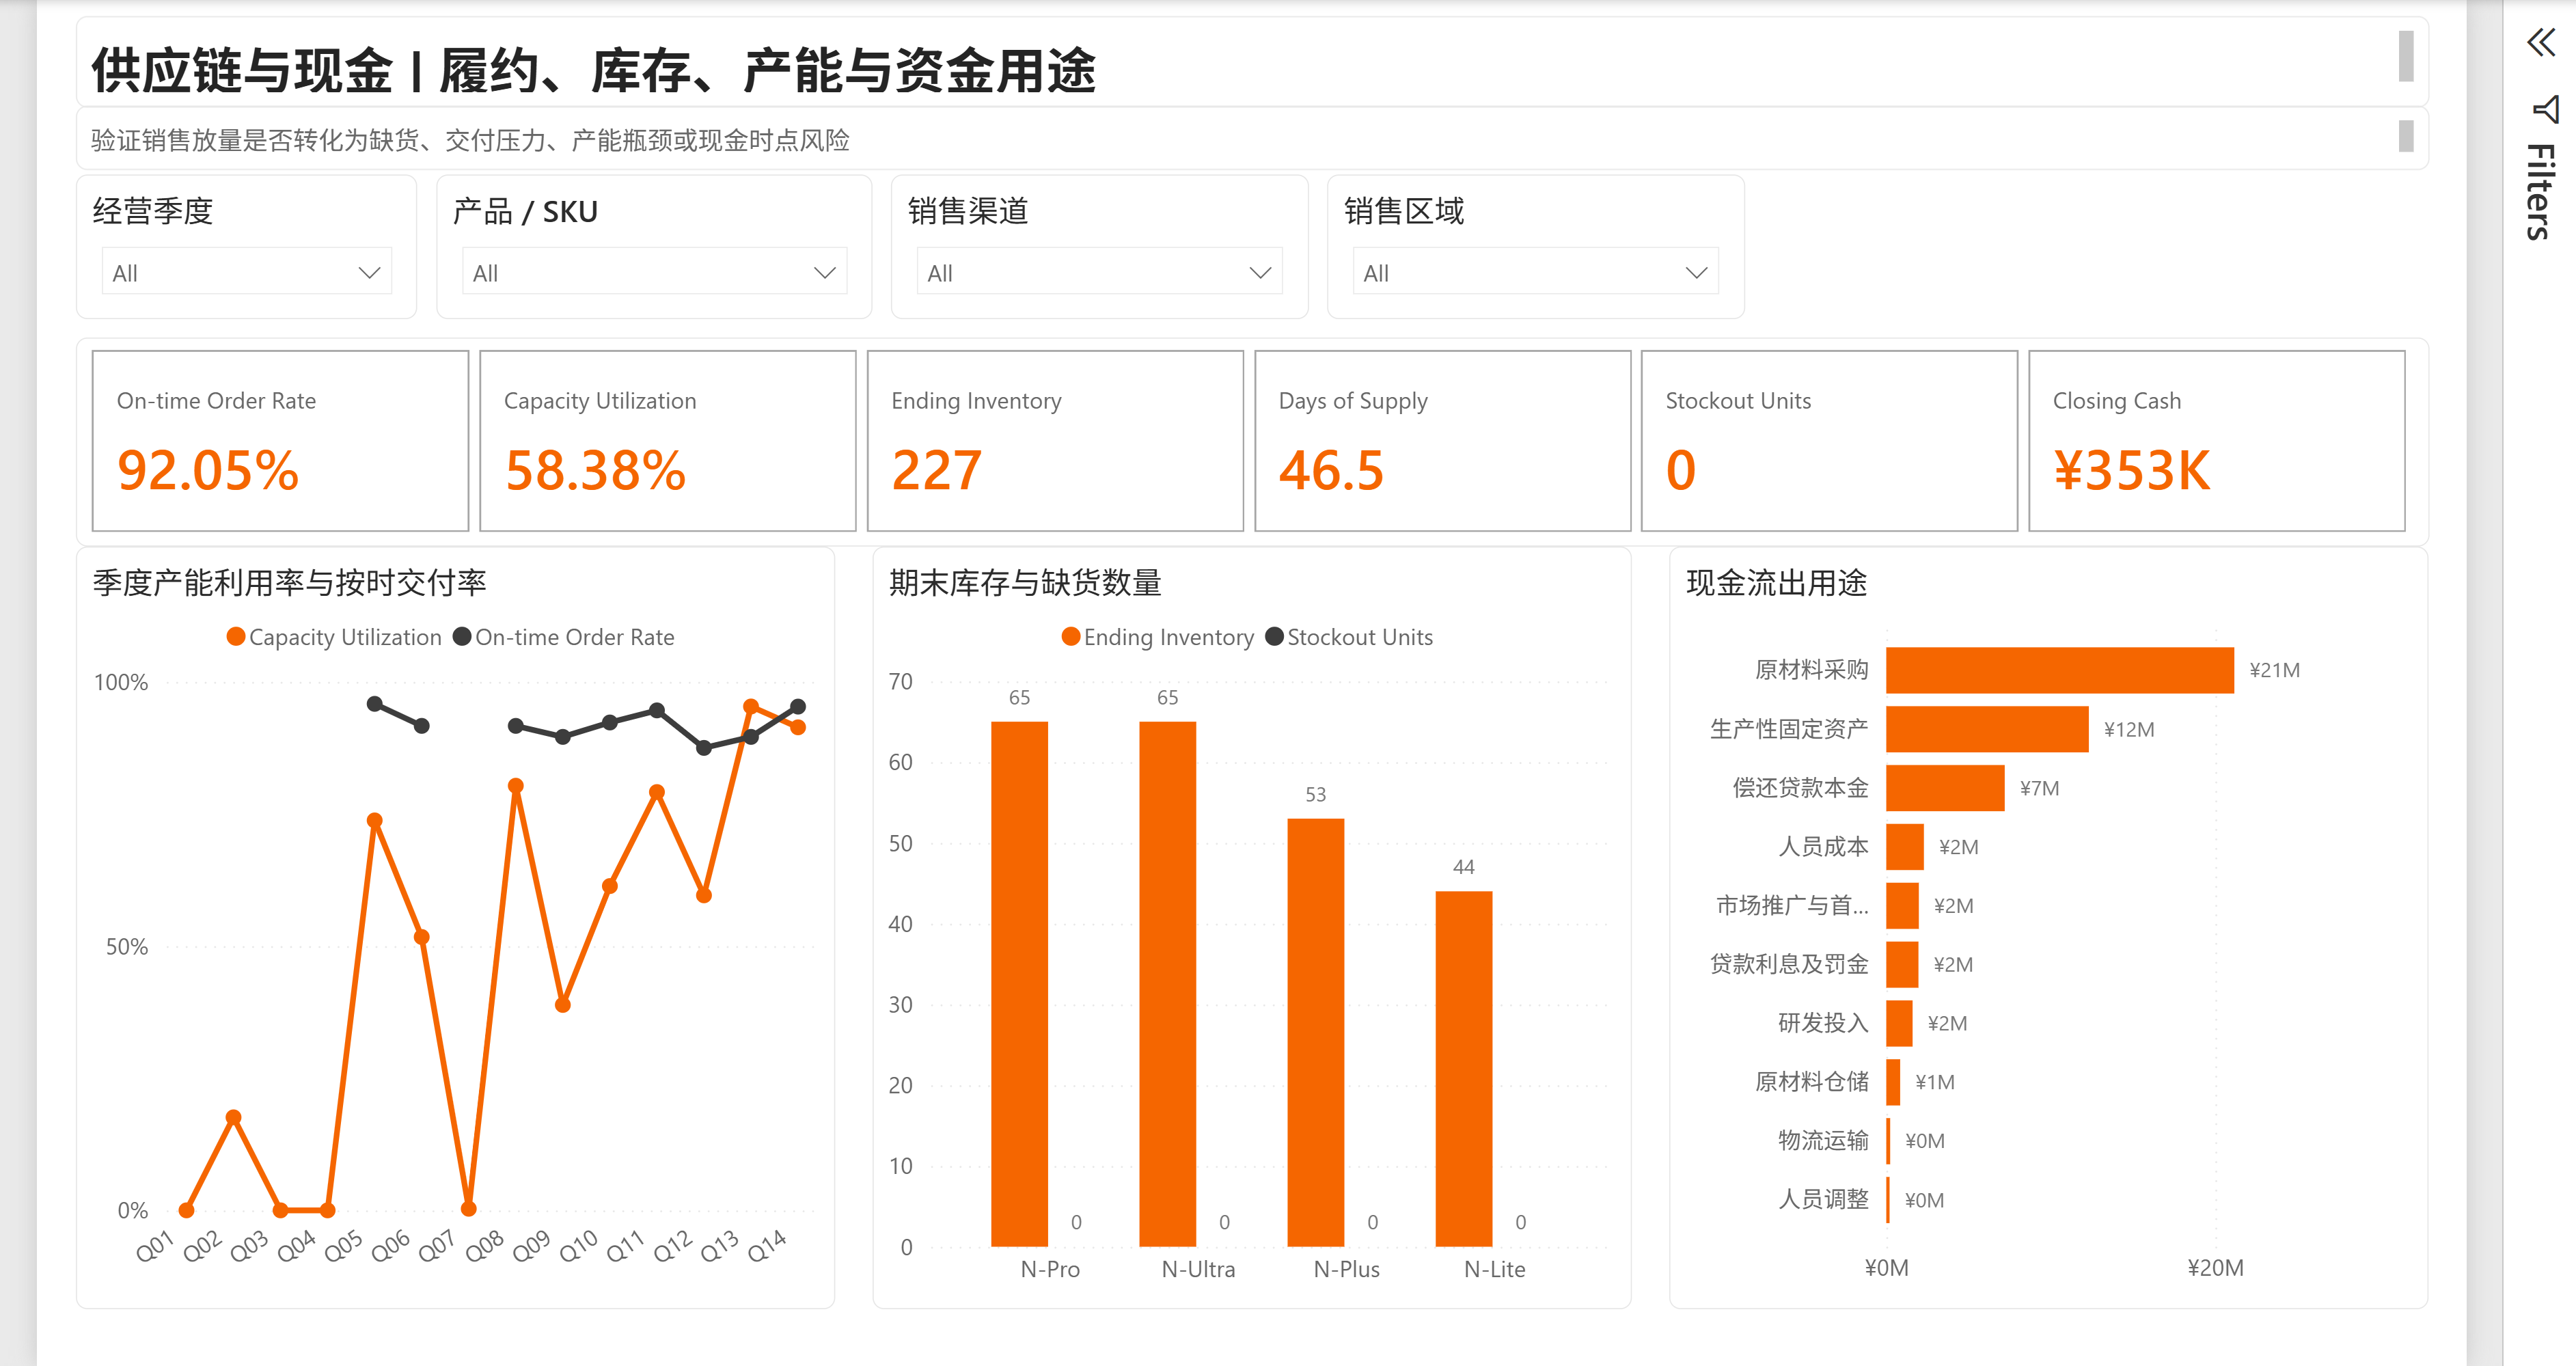

The dashboard page shown, as its layout file describes it:
{"tool":"powerbi","page":{"name":"3 供应链与现金","canvas":[1280,720],"ordinal":2},"visuals":[{"type":"textbox","box":[20,8,1240,48],"z":1000},{"type":"textbox","box":[20,56,1240,34],"z":2000},{"type":"slicer","title":"经营季度","fields":{"Values":["dim_date.business_quarter"]},"box":[20,92,180,76],"z":3000},{"type":"slicer","title":"产品 / SKU","fields":{"Values":["dim_product.product_name"]},"box":[210,92,230,76],"z":4000},{"type":"slicer","title":"销售渠道","fields":{"Values":["dim_channel.channel_name"]},"box":[450,92,220,76],"z":5000},{"type":"slicer","title":"销售区域","fields":{"Values":["dim_region.region_name"]},"box":[680,92,220,76],"z":6000},{"type":"cardVisual","fields":{"Data":["_Measures.On-time Order Rate","_Measures.Capacity Utilization","_Measures.Ending Inventory","_Measures.Days of Supply","_Measures.Stockout Units","_Measures.Closing Cash"]},"box":[20,178,1240,110],"z":7000},{"type":"lineChart","title":"季度产能利用率与按时交付率","fields":{"Category":["dim_date.business_quarter"],"Y":["_Measures.Capacity Utilization","_Measures.On-time Order Rate"]},"box":[20,288,400,402],"z":8000},{"type":"clusteredColumnChart","title":"期末库存与缺货数量","fields":{"Category":["dim_product.product_name"],"Y":["_Measures.Ending Inventory","_Measures.Stockout Units"]},"box":[440,288,400,402],"z":9000},{"type":"clusteredBarChart","title":"现金流出用途","fields":{"Category":["fact_cashflow.flow_category_cn"],"Y":["_Measures.Cash Outflow"]},"box":[860,288,400,402],"z":10000}]}

Visuals, with their boxes on the page's 1280x720 design canvas (x1, y1, x2, y2). These are canvas units, not pixel positions in the 2576x1366 screenshot, which may show the page scaled, cropped or inside an application window:
textbox: 20,8,1260,56
textbox: 20,56,1260,90
"经营季度" slicer: 20,92,200,168
"产品 / SKU" slicer: 210,92,440,168
"销售渠道" slicer: 450,92,670,168
"销售区域" slicer: 680,92,900,168
cardVisual - _Measures.On-time Order Rate x _Measures.Capacity Utilization: 20,178,1260,288
"季度产能利用率与按时交付率" lineChart: 20,288,420,690
"期末库存与缺货数量" clusteredColumnChart: 440,288,840,690
"现金流出用途" clusteredBarChart: 860,288,1260,690
